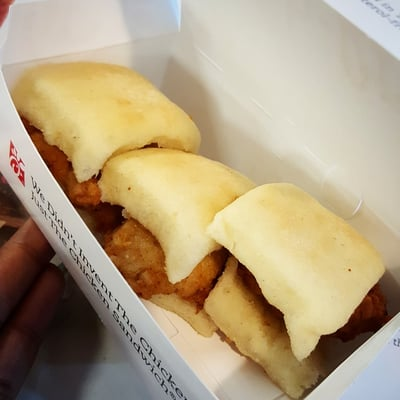soup: (43, 127, 392, 397)
